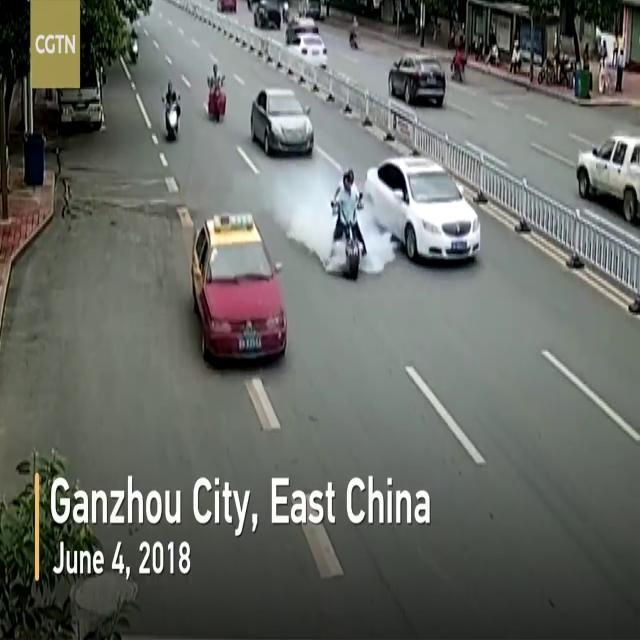Smoke: (272, 159, 340, 254), (364, 206, 398, 272)
